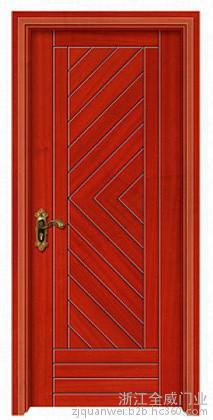door: (33, 31, 186, 405)
